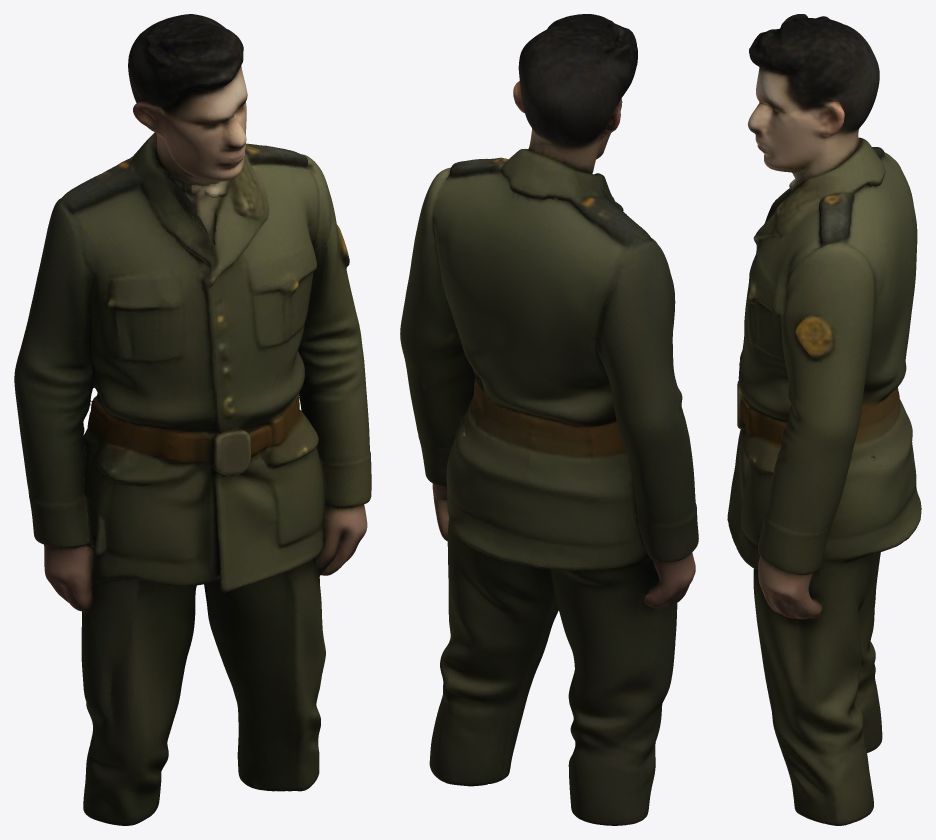
Rendered from reed.glb.
The picture shows the model from 3 angles, left to right: view 1: azimuth 30°, elevation 25°; view 2: azimuth 150°, elevation 25°; view 3: azimuth 270°, elevation 25°; orthographic projection. The views are drawn at different scales.
Visible parts, largest first — view 1: geometry_0; view 2: geometry_0; view 3: geometry_0.
Part boxes in pixels (x1,y1,x2,y2): geometry_0: (14, 14, 371, 825); geometry_0: (400, 14, 698, 825); geometry_0: (727, 14, 921, 825).
Size of the model in its own units: 0.7232 by 1.75 by 0.417.
Materials: 1 (1 with a texture image).
